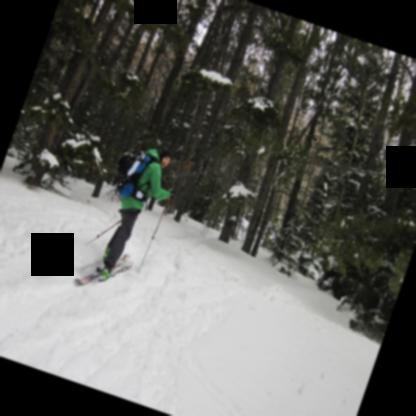backpack: (111, 151, 155, 199)
